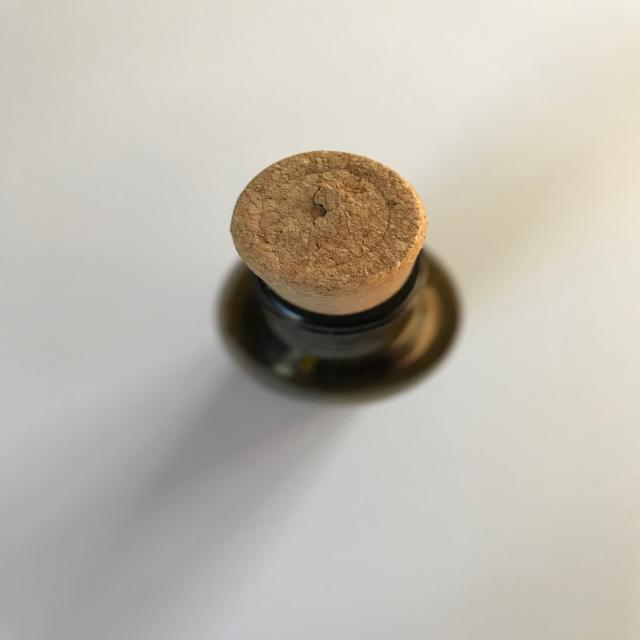Glass: (189, 129, 475, 448)
